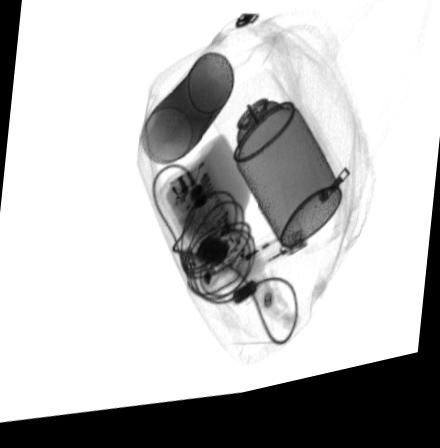Lighter: (219, 233, 309, 301)
Sprayer: (208, 80, 340, 261)
